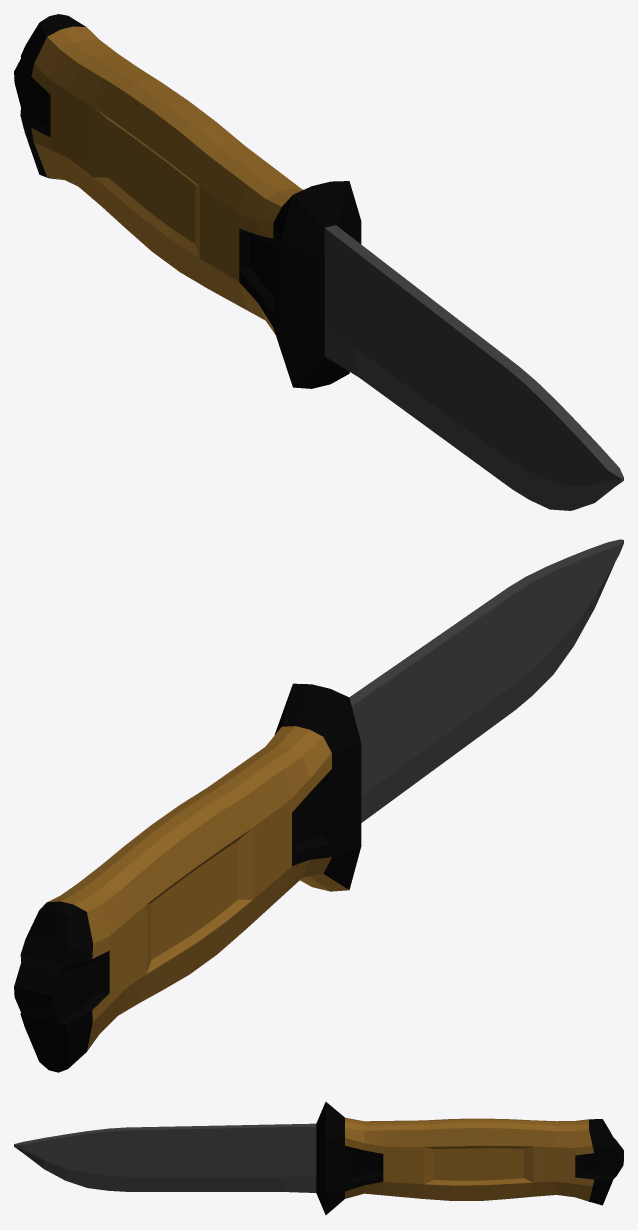
Rendered from Gerber StrongArm.fbx.
The picture shows the model from 3 angles, top to bottom: view 1: azimuth 30°, elevation 25°; view 2: azimuth 150°, elevation 25°; view 3: azimuth 270°, elevation 25°; orthographic projection. The views are drawn at different scales.
Parts seen in each view (by area): view 1: Gerber StrongArm; view 2: Gerber StrongArm; view 3: Gerber StrongArm.
Boxes of the visible parts, left/top/right/bottom form: Gerber StrongArm: left=14, top=14, right=623, bottom=510; Gerber StrongArm: left=14, top=539, right=623, bottom=1072; Gerber StrongArm: left=14, top=1102, right=623, bottom=1214.
Size of the model in its own units: 0.022 by 0.0534 by 0.281.
